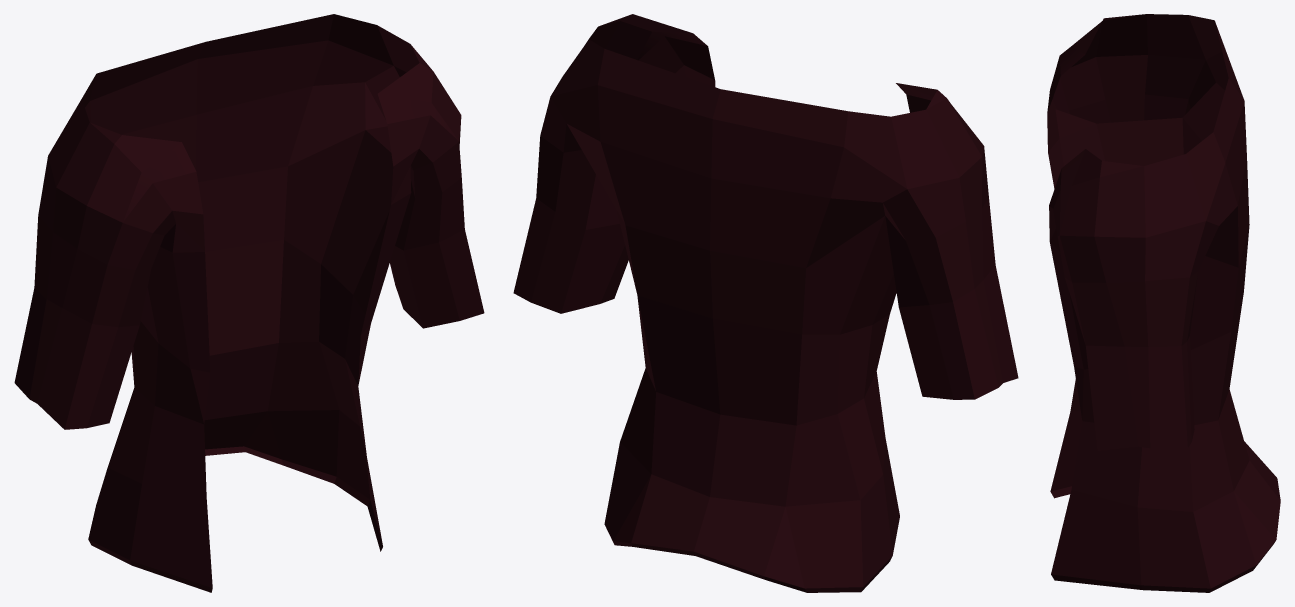
File: Shirt_001.obj
3 views of the same model, side by side, from view 1: azimuth 30°, elevation 25°; view 2: azimuth 150°, elevation 25°; view 3: azimuth 270°, elevation 25° (orthographic). The views are drawn at different scales.
Bounding box in the file's own units: 0.5817 × 0.5865 × 0.2672.
